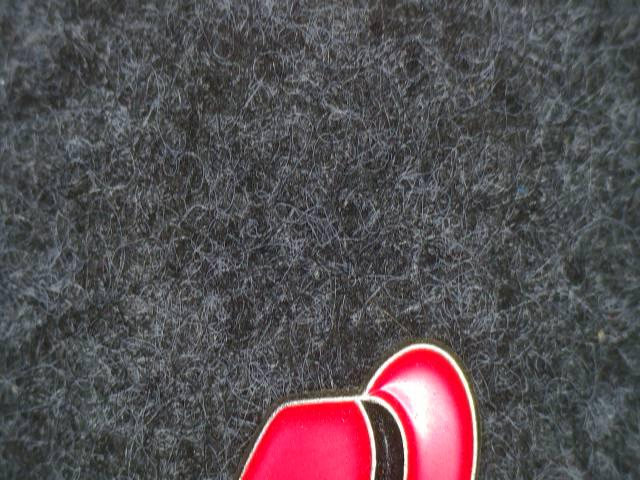Red-Hat: (201, 324, 534, 480)
